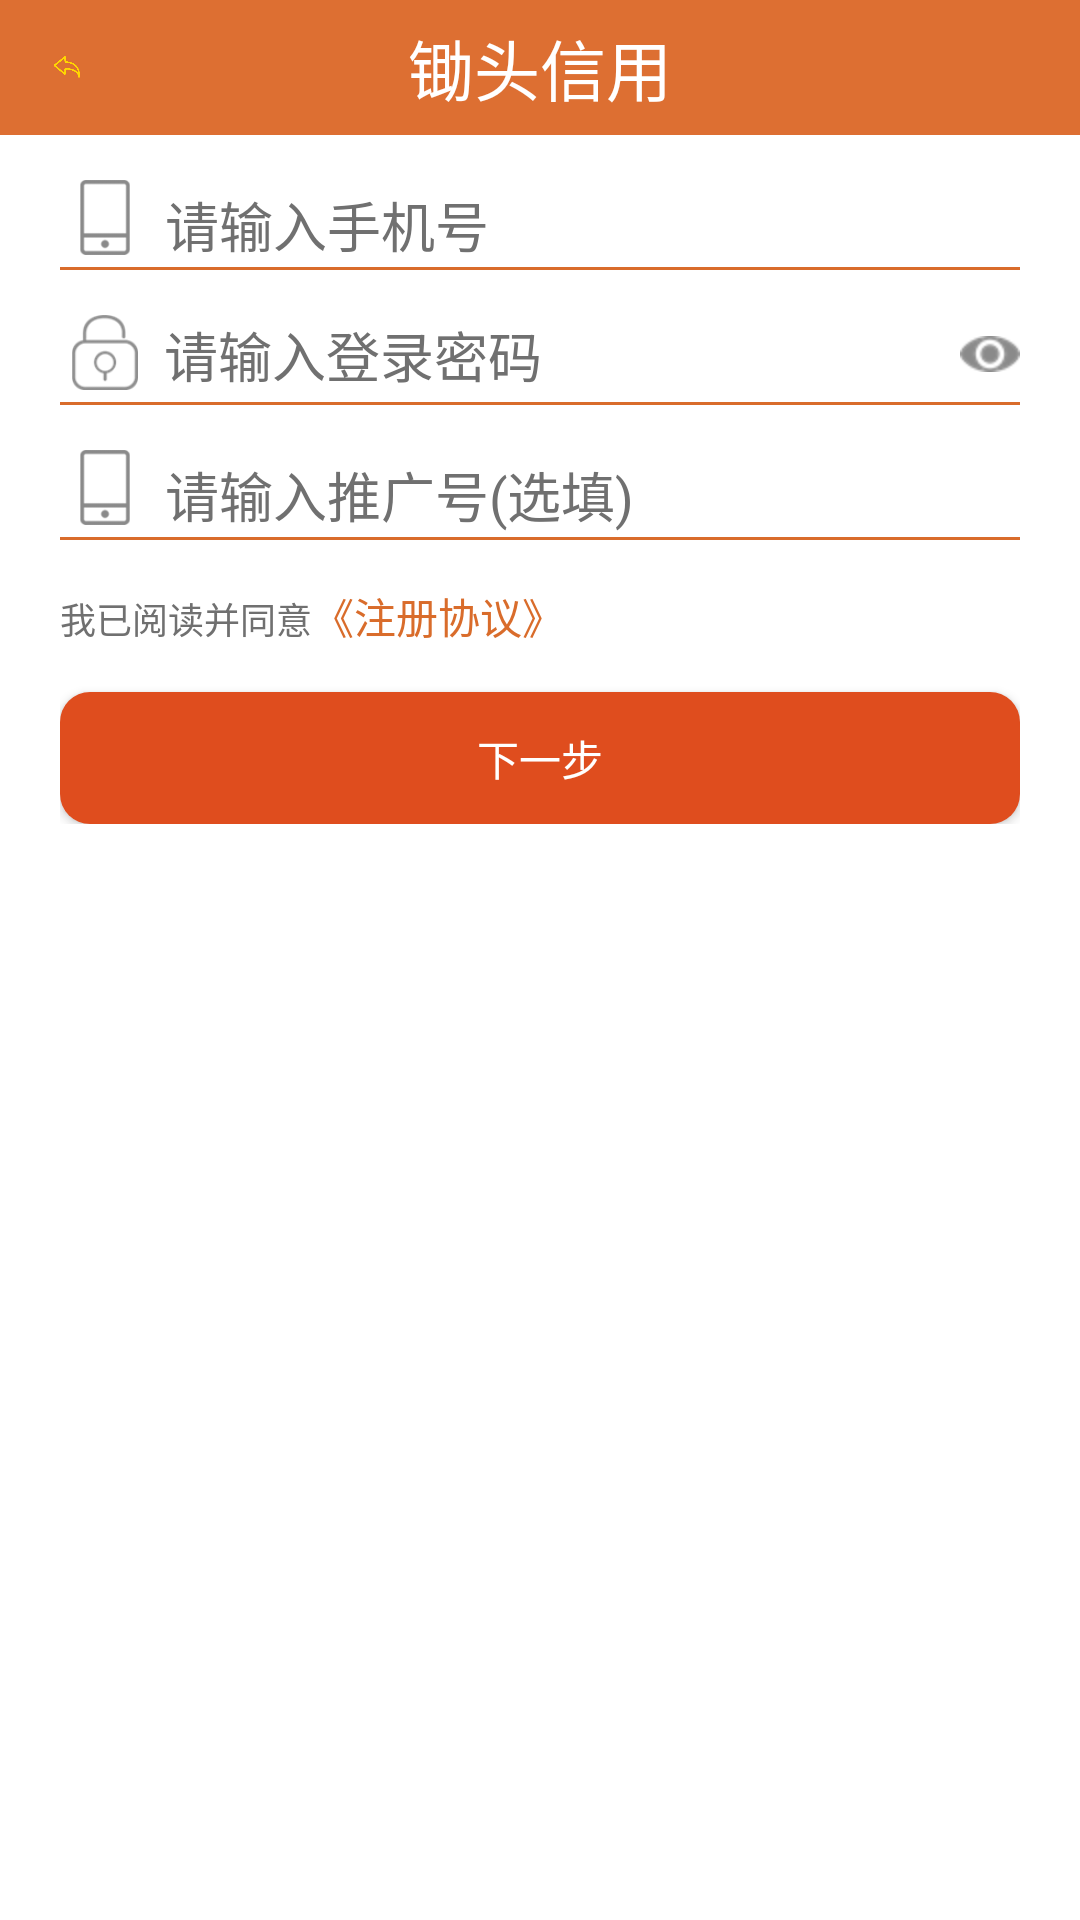

Point at icon controls on the screen. Image size 1080*1920, points as (x,y).
back: (67,67)
checkbox pw visible: (990,354)
password: (105,352)
phone: (105,217), (105,487)
